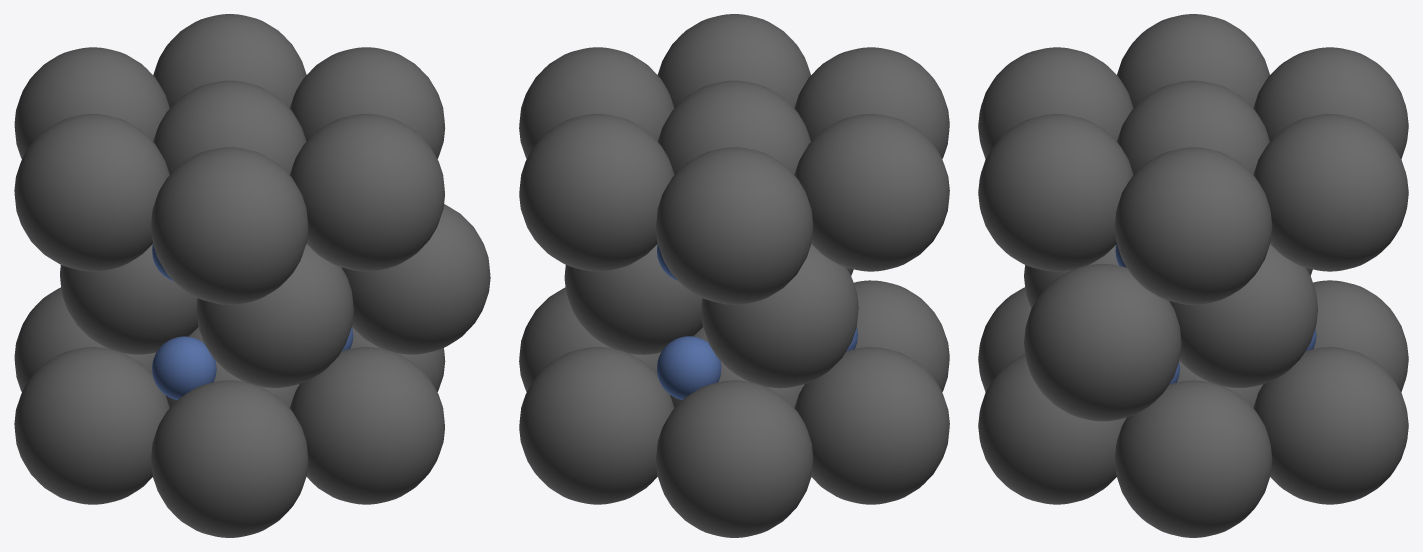
File: Hdp_OL_erweitert.glb
3 renders of one model, left to right at view 1: azimuth 30°, elevation 25°; view 2: azimuth 150°, elevation 25°; view 3: azimuth 270°, elevation 25°, orthographic.
Parts seen in each view (by area): view 1: Sphere.007, Sphere.001, Sphere.005; view 2: Sphere.007, Sphere.005; view 3: Sphere.007, Sphere.001.
Boxes of the visible parts, x1=… form: Sphere.007: x1=14, y1=14, x2=445, y2=537; Sphere.001: x1=341, y1=204, x2=490, y2=354; Sphere.005: x1=152, y1=244, x2=353, y2=399; Sphere.007: x1=519, y1=14, x2=949, y2=537; Sphere.005: x1=657, y1=244, x2=857, y2=399; Sphere.007: x1=978, y1=14, x2=1408, y2=537; Sphere.001: x1=1024, y1=264, x2=1181, y2=421.
Bounding box in the file's own units: 6 × 5.26 × 5.46.
